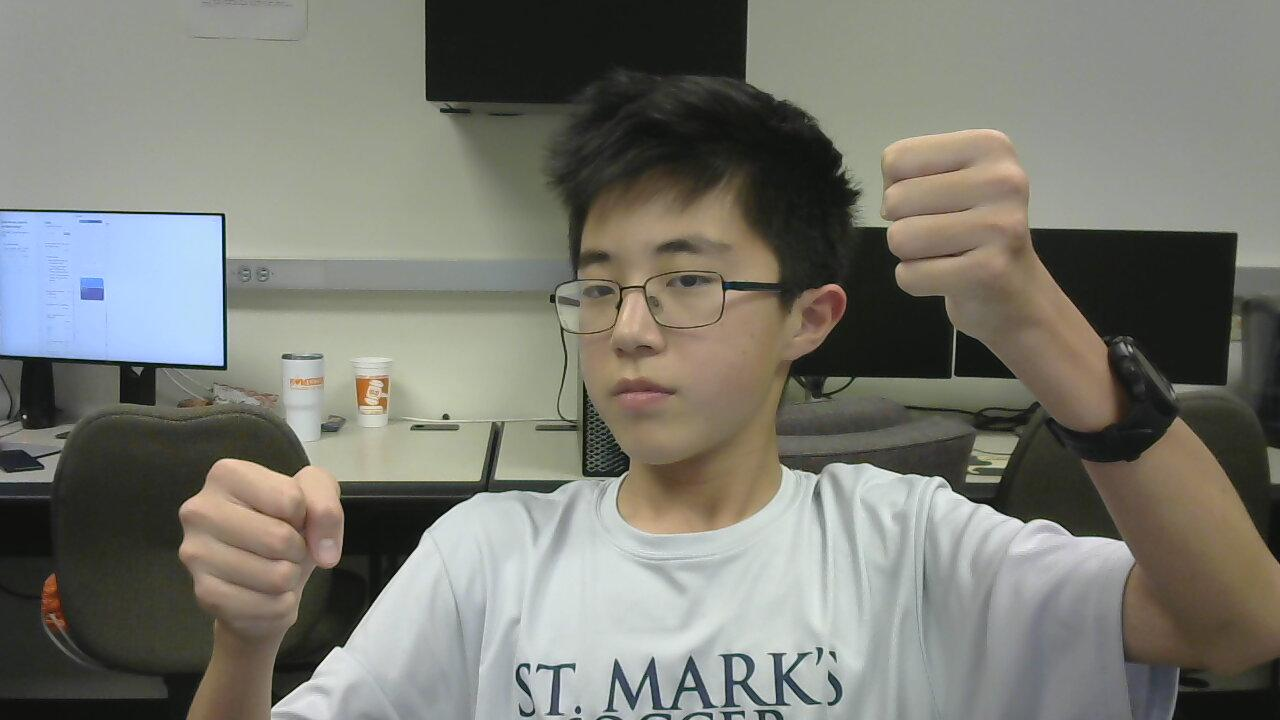fist: (166, 417, 357, 663), (871, 114, 1049, 321)
